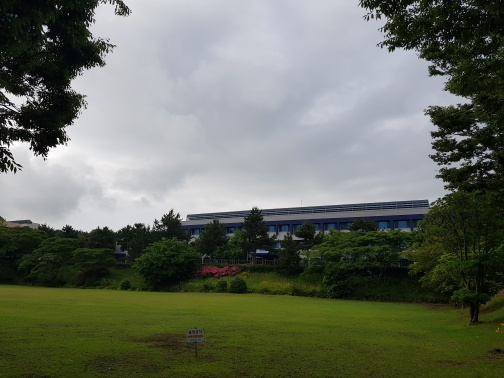College of Social Sciences: (178, 205, 438, 270)
